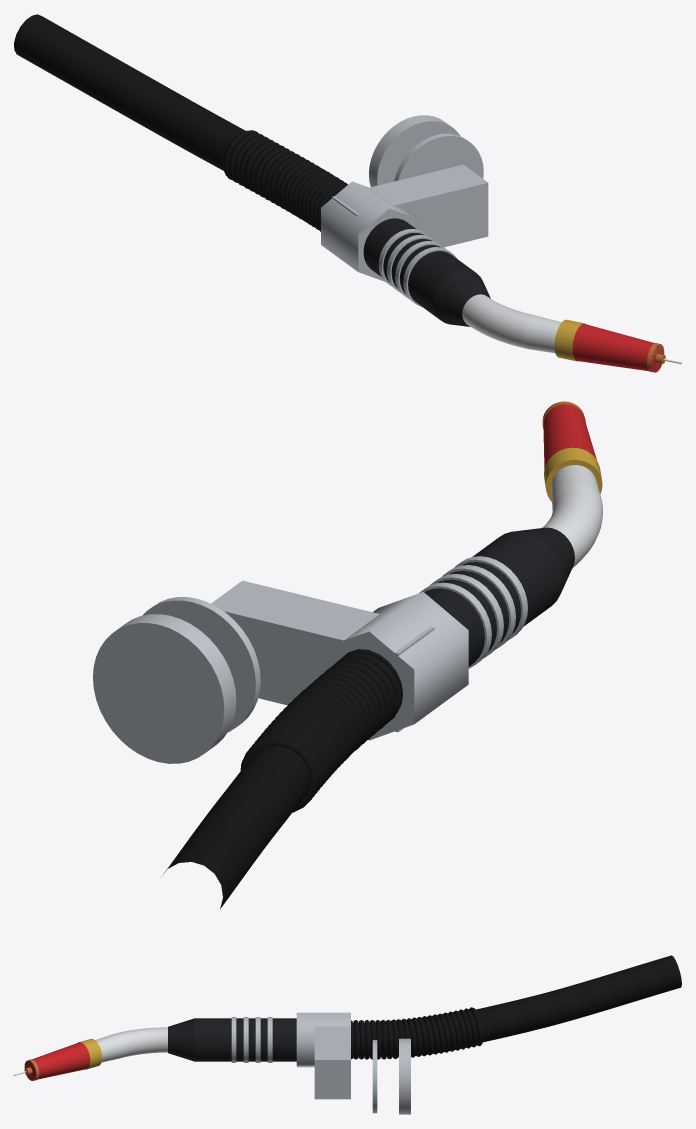
File: torch.glb
The picture shows the model from 3 angles, top to bottom: view 1: azimuth 30°, elevation 25°; view 2: azimuth 150°, elevation 25°; view 3: azimuth 270°, elevation 25°; orthographic projection. The views are drawn at different scales.
Visible parts, largest first — view 1: hose, bracket, clamp, body, nozzle, adapter, sensor_ring, neck_bend, body_cone, neck, insulator; view 2: adapter, bracket, hose, clamp, body, sensor_ring, grip_ring (×4), neck_bend, nozzle, insulator, body_cone, hose_ring (+1 smaller); view 3: hose, body, bracket, clamp, nozzle, neck_bend, grip_ring (×4), body_cone, adapter, neck, sensor_ring, insulator.
Part boxes in pixels (bbox=[...]): hose: bbox=[14, 14, 245, 170]; bracket: bbox=[332, 164, 488, 247]; clamp: bbox=[321, 181, 419, 281]; body: bbox=[363, 218, 475, 320]; nozzle: bbox=[572, 324, 663, 371]; adapter: bbox=[369, 115, 460, 186]; sensor_ring: bbox=[394, 133, 483, 181]; neck_bend: bbox=[462, 294, 535, 349]; body_cone: bbox=[433, 269, 490, 326]; neck: bbox=[524, 315, 561, 353]; insulator: bbox=[554, 319, 585, 361]; adapter: bbox=[93, 614, 236, 763]; bracket: bbox=[211, 580, 434, 732]; hose: bbox=[163, 745, 310, 908]; clamp: bbox=[324, 592, 468, 740]; body: bbox=[424, 531, 562, 666]; sensor_ring: bbox=[142, 597, 260, 732]; grip_ring (×4): bbox=[419, 556, 527, 668]; neck_bend: bbox=[542, 483, 602, 567]; nozzle: bbox=[543, 404, 596, 468]; insulator: bbox=[544, 447, 602, 501]; body_cone: bbox=[514, 527, 574, 593]; hose_ring: bbox=[240, 738, 317, 812]; hose: bbox=[353, 955, 681, 1056]; body: bbox=[194, 1018, 296, 1061]; bracket: bbox=[314, 1026, 350, 1099]; clamp: bbox=[296, 1012, 350, 1067]; nozzle: bbox=[24, 1042, 89, 1080]; neck_bend: bbox=[113, 1027, 167, 1058]; grip_ring (×4): bbox=[231, 1017, 272, 1062]; body_cone: bbox=[168, 1018, 194, 1061]; adapter: bbox=[399, 1038, 410, 1114]; neck: bbox=[95, 1034, 122, 1062]; sensor_ring: bbox=[372, 1040, 377, 1113]; insulator: bbox=[78, 1038, 102, 1069].
Size of what is drawn, in the model's own units: 0.1869 by 0.0753 by 0.5546.
